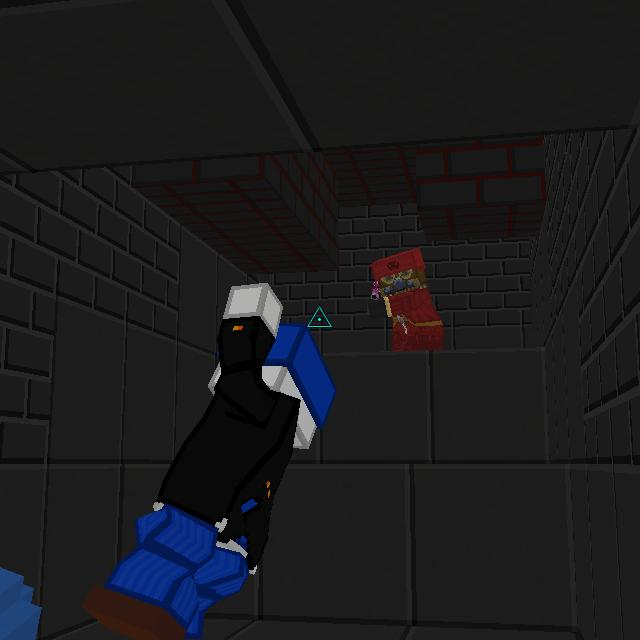enemy: (369, 245, 448, 352)
